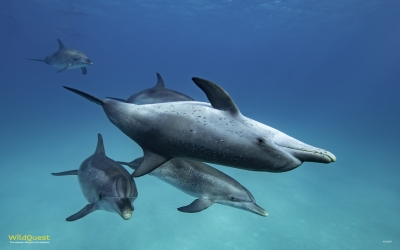dolphin: (69, 80, 345, 177), (125, 153, 280, 223), (48, 133, 142, 230), (19, 36, 101, 80)
